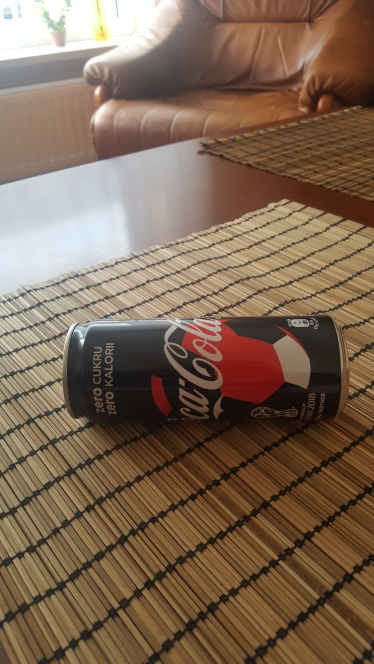colazero: (53, 308, 351, 426)
